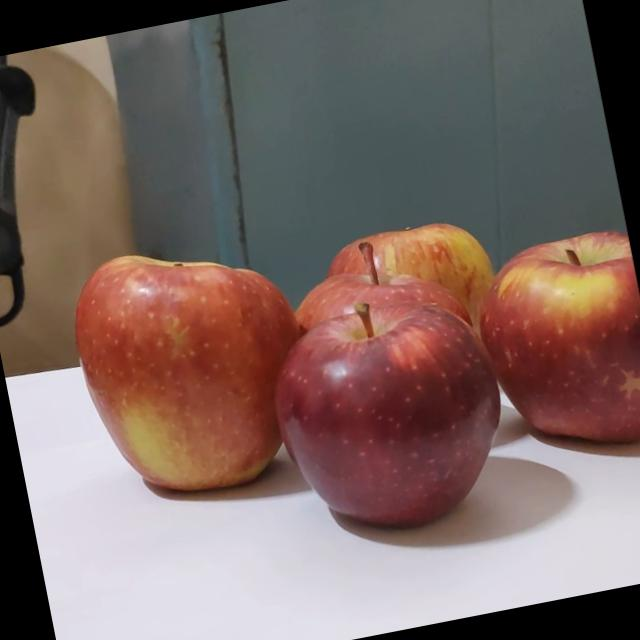apple: (56, 244, 304, 515), (253, 295, 502, 551), (271, 230, 476, 466), (452, 224, 640, 462), (288, 228, 471, 431)
